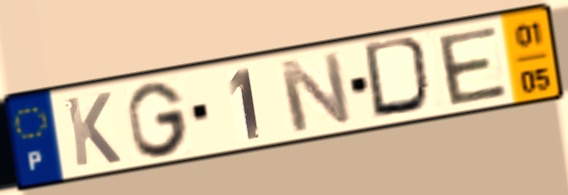1: (226, 66, 263, 141)
D: (360, 33, 440, 122)
E: (433, 23, 511, 108)
G: (124, 79, 192, 160)
K: (61, 89, 124, 170)
N: (274, 50, 357, 136)
